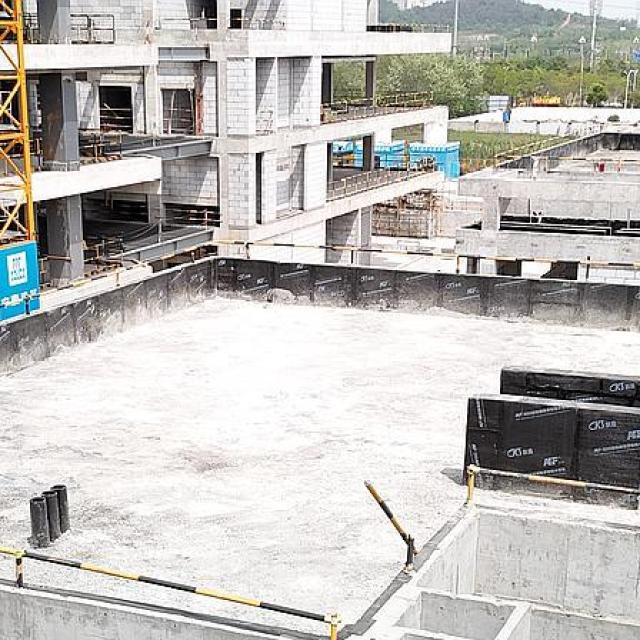edge_guardrail: (0, 238, 640, 315), (0, 545, 340, 640), (493, 127, 640, 174), (465, 464, 640, 499), (325, 153, 435, 201), (363, 479, 418, 567), (320, 89, 434, 124), (84, 236, 123, 277), (78, 128, 129, 158), (70, 14, 116, 44), (165, 207, 221, 223), (162, 108, 194, 133), (160, 17, 217, 29), (367, 24, 450, 32), (100, 108, 133, 128), (29, 137, 47, 172), (231, 19, 286, 30), (332, 88, 367, 98)
